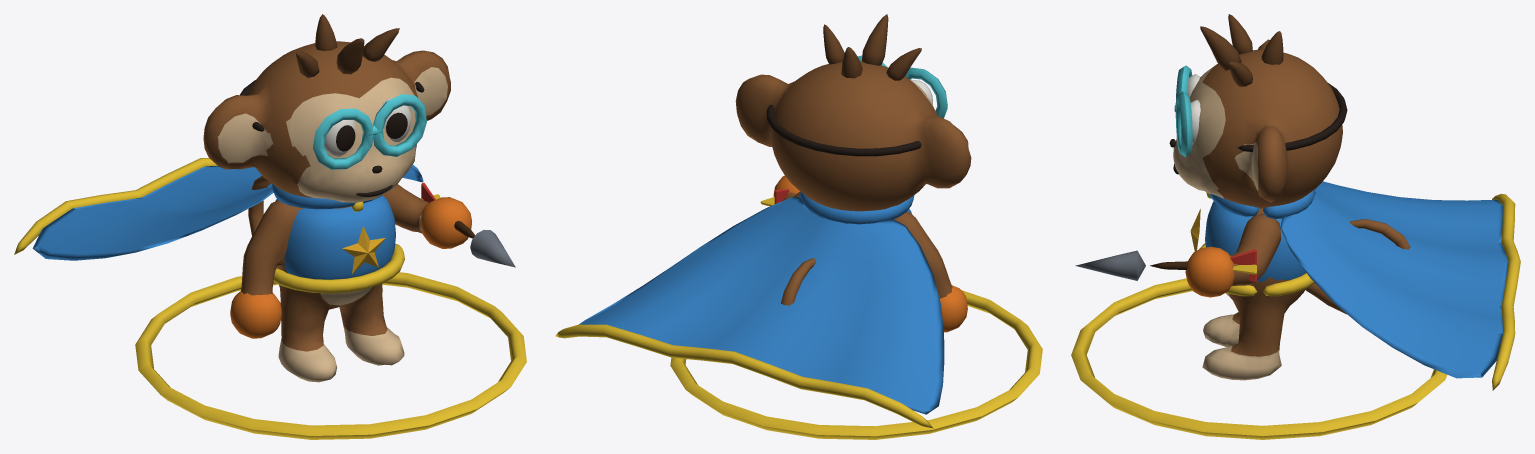
The picture shows the model from 3 angles, left to right: view 1: azimuth 30°, elevation 25°; view 2: azimuth 150°, elevation 25°; view 3: azimuth 270°, elevation 25°; orthographic projection. The views are drawn at different scales.
Visible parts, largest first — view 1: super_1_corpo, super_3_cabeca, super_0_base, super_4_braco, super_2_cauda; view 2: super_1_corpo, super_3_cabeca, super_0_base, super_2_cauda, super_4_braco; view 3: super_1_corpo, super_3_cabeca, super_0_base, super_4_braco, super_2_cauda.
Part boxes in pixels (<box>): super_1_corpo: <box>14,158,423,382</box>; super_3_cabeca: <box>203,14,450,202</box>; super_0_base: <box>135,272,526,439</box>; super_4_braco: <box>383,182,515,267</box>; super_2_cauda: <box>248,176,271,236</box>; super_1_corpo: <box>555,192,967,428</box>; super_3_cabeca: <box>735,14,971,211</box>; super_0_base: <box>670,290,1042,439</box>; super_2_cauda: <box>781,258,815,305</box>; super_4_braco: <box>760,175,800,206</box>; super_1_corpo: <box>1190,181,1520,390</box>; super_3_cabeca: <box>1169,14,1347,208</box>; super_0_base: <box>1071,278,1446,439</box>; super_4_braco: <box>1075,214,1281,297</box>; super_2_cauda: <box>1305,219,1410,314</box>.
Bounding box in the file's own units: 1.61 × 1.33 × 1.61.
